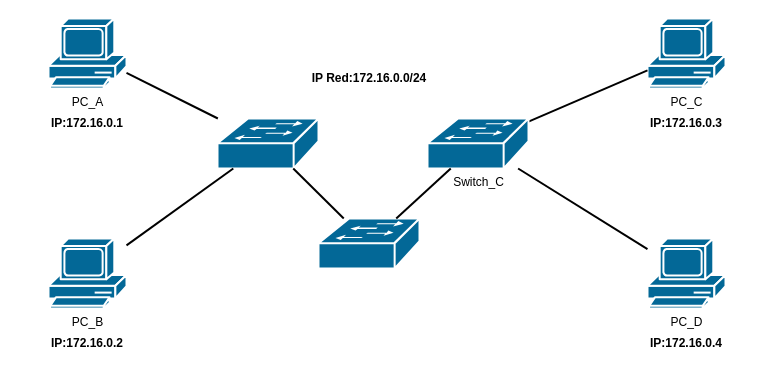
The diagram is 773 pixels wide and 375 high, and some of its shapes have lost their labels. Here are the shapes that lost their labels. From the top down, the box of each, then its label:
(216, 117, 319, 169): Switch_A
(317, 217, 420, 269): Switch_B
